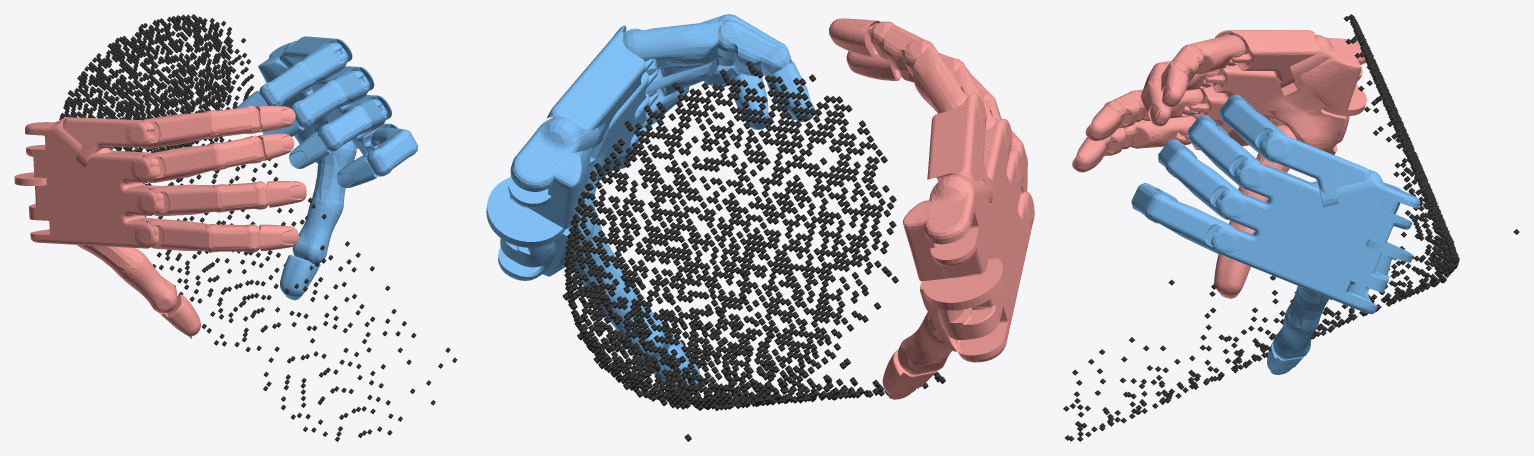
The picture shows the model from 3 angles, left to right: view 1: azimuth 30°, elevation 25°; view 2: azimuth 150°, elevation 25°; view 3: azimuth 270°, elevation 25°; orthographic projection. The views are drawn at different scales.
Visible parts, largest first — view 1: left_shadow_hand, right_shadow_hand, object_pointcloud; view 2: object_pointcloud, left_shadow_hand, right_shadow_hand; view 3: right_shadow_hand, left_shadow_hand, object_pointcloud.
Boxes of the visible parts, x1=… form: left_shadow_hand: x1=14, y1=105, x2=306, y2=338; right_shadow_hand: x1=236, y1=36, x2=417, y2=300; object_pointcloud: x1=59, y1=14, x2=457, y2=441; object_pointcloud: x1=562, y1=61, x2=945, y2=441; left_shadow_hand: x1=829, y1=18, x2=1034, y2=399; right_shadow_hand: x1=486, y1=14, x2=816, y2=391; right_shadow_hand: x1=1131, y1=94, x2=1420, y2=374; left_shadow_hand: x1=1072, y1=30, x2=1366, y2=298; object_pointcloud: x1=1063, y1=14, x2=1519, y2=441.
Bounding box in the file's own units: 0.2616 × 0.2523 × 0.2866.
